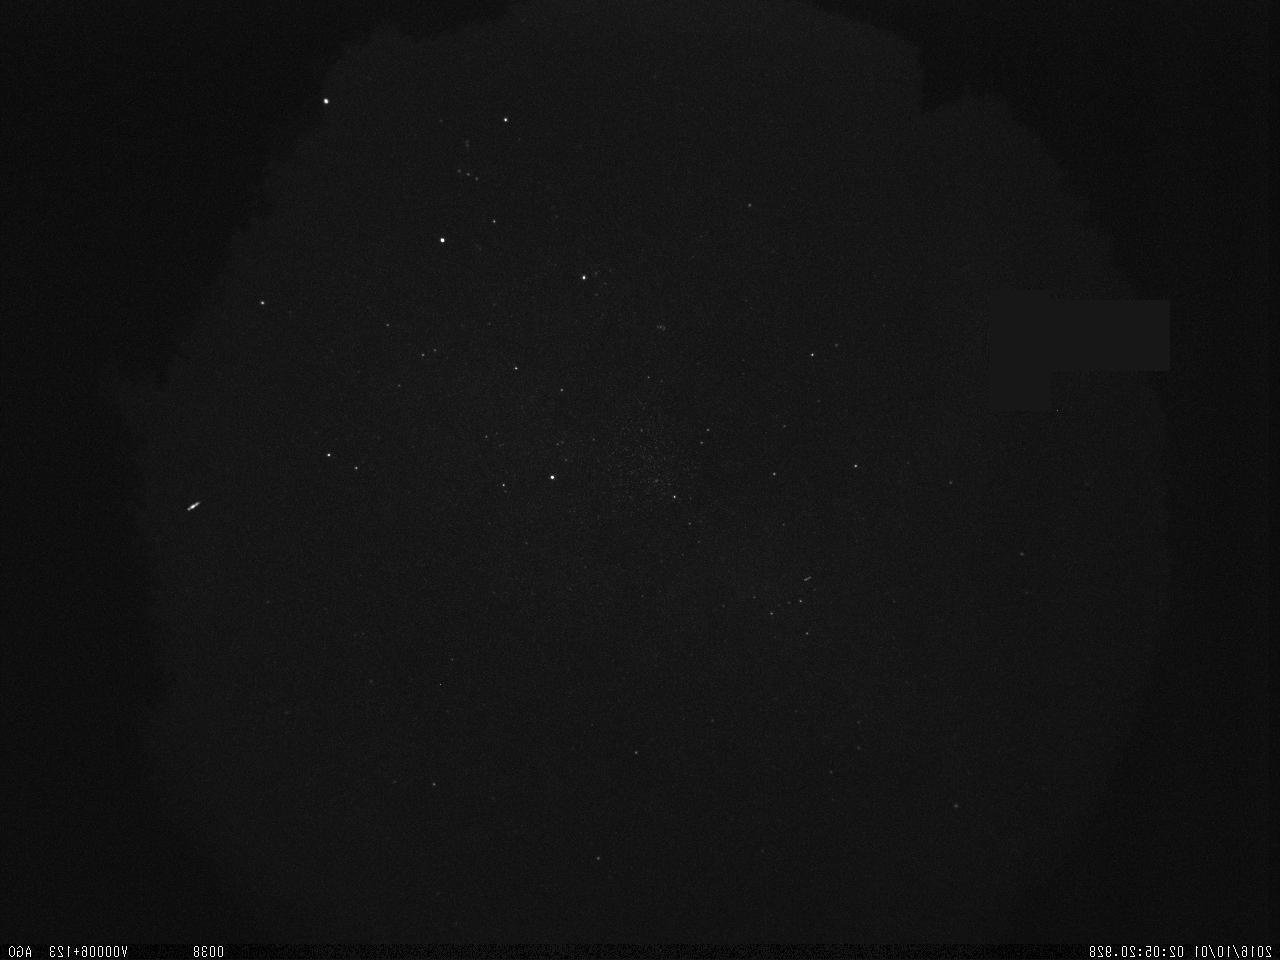meteor: (179, 490, 212, 518)
